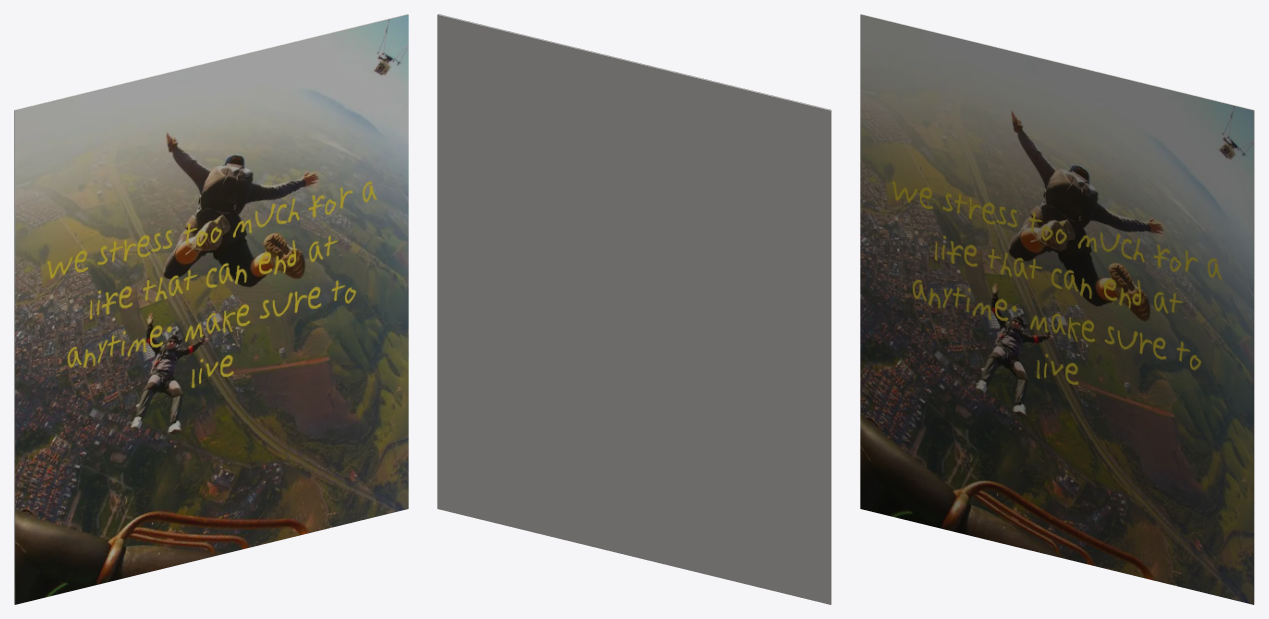
Rendered from poster-skydive.glb.
3 renders of one model, left to right at view 1: azimuth 30°, elevation 25°; view 2: azimuth 150°, elevation 25°; view 3: azimuth 330°, elevation 25°, orthographic.
Parts seen in each view (by area): view 1: print, paper; view 2: paper; view 3: print, paper.
Boxes of the visible parts, box(x1,y1,x2,y2) form: print: box(15, 15, 408, 604); paper: box(14, 14, 408, 604); paper: box(437, 14, 831, 604); print: box(860, 15, 1253, 604); paper: box(860, 14, 1254, 604).
Bounding box in the file's own units: 0.5001 × 0.6 × 0.0021.
Materials: 2 (1 with a texture image).
